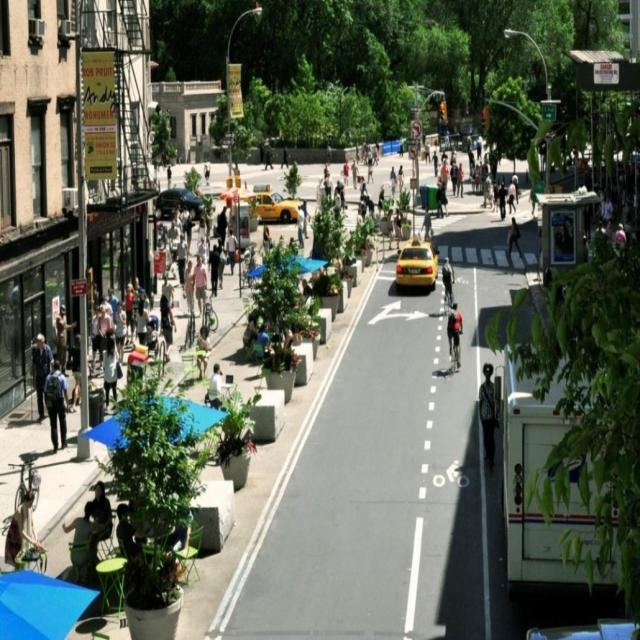body: (0, 267, 78, 383), (62, 500, 113, 586), (4, 490, 42, 570), (42, 359, 70, 456), (30, 332, 56, 423), (88, 480, 113, 571), (478, 361, 498, 474), (110, 223, 135, 304), (163, 521, 192, 589), (115, 502, 144, 568), (101, 336, 121, 413), (156, 292, 176, 364), (67, 333, 82, 413), (446, 303, 464, 369), (593, 182, 640, 207), (96, 303, 112, 373), (255, 321, 276, 374), (191, 253, 208, 318), (90, 304, 106, 373), (194, 323, 212, 381), (208, 362, 228, 413), (10, 446, 55, 468), (113, 299, 127, 364), (135, 298, 153, 347), (182, 260, 196, 318), (505, 214, 523, 259), (224, 226, 240, 276), (124, 282, 136, 347), (137, 294, 152, 346), (554, 219, 574, 258), (175, 232, 189, 287), (207, 243, 221, 297), (480, 175, 500, 212), (442, 255, 455, 309), (240, 314, 258, 352), (532, 225, 544, 282), (132, 532, 152, 564), (613, 222, 627, 267), (97, 294, 114, 331), (182, 214, 196, 258), (89, 281, 101, 330), (2, 416, 51, 428), (420, 205, 435, 243), (106, 286, 120, 326), (161, 272, 175, 310), (216, 242, 227, 290), (294, 204, 305, 252), (284, 234, 299, 267), (216, 205, 228, 246), (214, 236, 224, 285), (300, 199, 311, 240), (132, 289, 140, 344), (497, 180, 508, 220), (582, 200, 592, 244), (386, 208, 396, 251), (394, 207, 404, 250), (282, 323, 295, 356), (506, 177, 517, 216), (196, 236, 210, 266), (595, 195, 606, 233), (193, 216, 206, 247), (434, 180, 444, 220), (173, 202, 182, 246), (360, 138, 374, 166), (166, 219, 181, 245), (441, 129, 457, 153), (365, 193, 375, 231), (435, 175, 445, 213), (429, 366, 458, 379), (620, 201, 630, 238), (350, 157, 361, 190), (439, 157, 450, 190), (440, 179, 449, 218), (262, 222, 274, 251), (449, 159, 458, 197), (456, 161, 465, 199), (359, 181, 369, 215), (323, 172, 334, 202), (527, 182, 537, 215), (204, 217, 212, 258), (272, 323, 284, 349), (481, 159, 490, 193), (366, 151, 375, 184), (338, 184, 346, 220), (603, 195, 614, 221), (322, 161, 330, 196), (396, 163, 405, 194), (172, 210, 184, 233), (428, 308, 451, 320), (512, 171, 520, 205), (359, 192, 368, 222), (264, 144, 274, 171), (377, 182, 385, 215), (469, 161, 477, 194), (301, 277, 314, 297), (156, 146, 166, 172), (280, 144, 290, 170), (332, 188, 341, 216), (431, 149, 440, 177), (390, 165, 398, 196), (203, 157, 211, 187), (342, 158, 350, 188), (264, 194, 282, 206), (478, 160, 484, 195), (467, 148, 475, 174), (166, 163, 173, 192), (476, 132, 484, 156), (359, 175, 366, 202), (474, 163, 480, 194), (372, 144, 380, 167), (105, 327, 117, 342), (134, 275, 144, 293), (596, 220, 608, 235), (425, 140, 432, 165), (231, 160, 241, 177), (180, 190, 193, 203), (356, 207, 364, 228), (160, 148, 167, 172), (488, 218, 512, 225), (326, 141, 333, 164), (466, 132, 472, 157), (483, 151, 489, 176), (334, 180, 342, 198), (476, 136, 482, 160), (398, 135, 404, 158), (137, 288, 146, 302), (450, 150, 457, 168), (374, 137, 380, 157), (355, 144, 361, 161), (560, 158, 566, 175), (441, 149, 448, 163), (525, 168, 528, 186), (502, 173, 505, 185)
